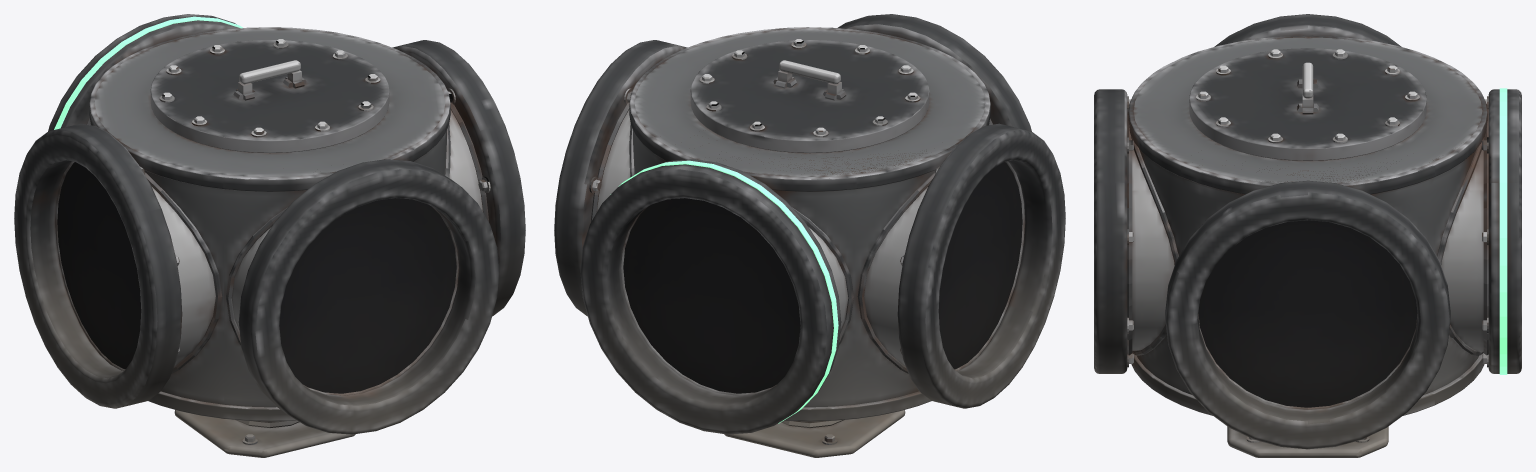
The model's file is SM_Merger.glb.
3 views of the same model, side by side, from view 1: azimuth 30°, elevation 25°; view 2: azimuth 150°, elevation 25°; view 3: azimuth 270°, elevation 25° (orthographic).
Parts seen in each view (by area): view 1: SM_Merger; view 2: SM_Merger; view 3: SM_Merger.
Part boxes in pixels (box(x1,y1,x2,y2)): SM_Merger: box(14, 14, 525, 457); SM_Merger: box(554, 14, 1065, 457); SM_Merger: box(1094, 14, 1521, 457).
Size of the model in its own units: 0.9 by 0.812 by 0.9.
6 materials, 5 textured.
